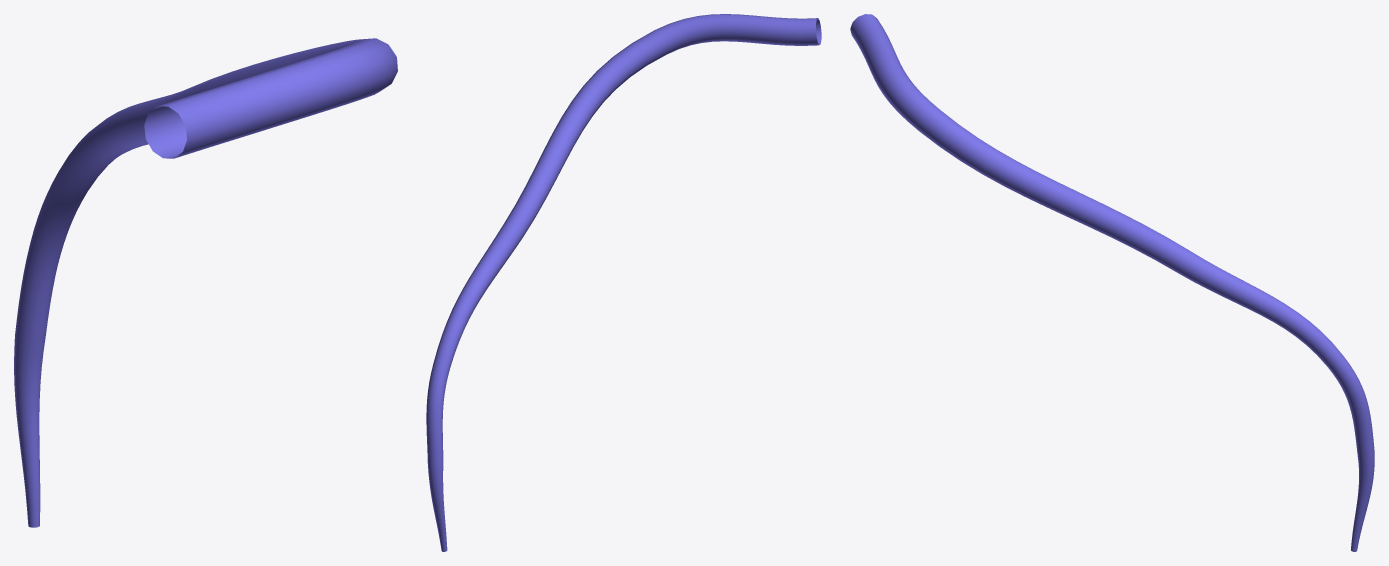
Rendered from Lateral_sacral_veins.r_BezierCurve.402.glb.
The picture shows the model from 3 angles, left to right: view 1: azimuth 30°, elevation 25°; view 2: azimuth 150°, elevation 25°; view 3: azimuth 270°, elevation 25°; orthographic projection. The views are drawn at different scales.
Parts seen in each view (by area): view 1: Lateral_sacral_veins.r_BezierCurve.402; view 2: Lateral_sacral_veins.r_BezierCurve.402; view 3: Lateral_sacral_veins.r_BezierCurve.402.
Boxes of the visible parts, bbox=[...] form: Lateral_sacral_veins.r_BezierCurve.402: bbox=[14, 38, 397, 527]; Lateral_sacral_veins.r_BezierCurve.402: bbox=[426, 14, 821, 551]; Lateral_sacral_veins.r_BezierCurve.402: bbox=[850, 14, 1374, 551].
Bounding box in the file's own units: 0.0211 × 0.0459 × 0.048.
